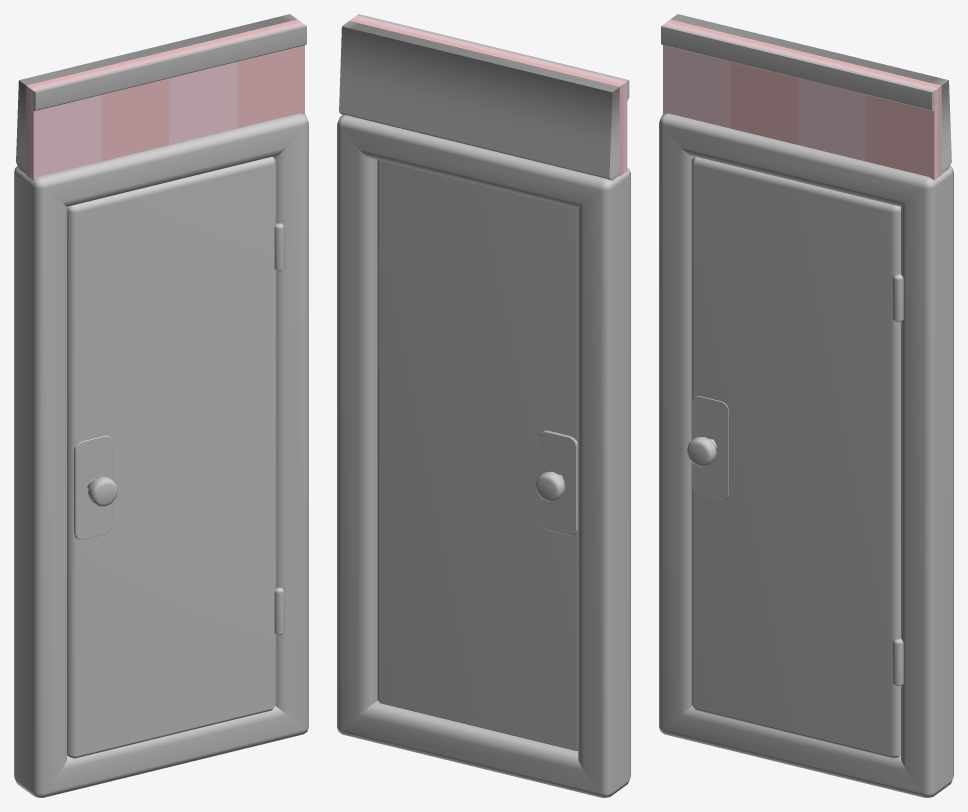
Rendered from Door With Wall.fbx.
The picture shows the model from 3 angles, left to right: view 1: azimuth 30°, elevation 25°; view 2: azimuth 150°, elevation 25°; view 3: azimuth 330°, elevation 25°; orthographic projection.
Parts seen in each view (by area): view 1: Door, DoorFrame, Wall_Interior_Door, Wall_Exterior_Door; view 2: Door, DoorFrame, Wall_Exterior_Door, Wall_Interior_Door; view 3: Door, DoorFrame, Wall_Interior_Door, Wall_Exterior_Door.
Part boxes in pixels (<box>): Door: <box>67,156,284,758</box>; DoorFrame: <box>14,113,308,797</box>; Wall_Interior_Door: <box>26,19,306,180</box>; Wall_Exterior_Door: <box>16,14,297,173</box>; Door: <box>377,159,578,750</box>; DoorFrame: <box>337,115,630,797</box>; Wall_Exterior_Door: <box>339,21,619,180</box>; Wall_Interior_Door: <box>349,14,629,176</box>; Door: <box>687,156,903,758</box>; DoorFrame: <box>659,113,953,797</box>; Wall_Interior_Door: <box>661,19,941,180</box>; Wall_Exterior_Door: <box>670,14,951,173</box>.
Bounding box in the file's own units: 1.02 × 2.49 × 0.2884.
